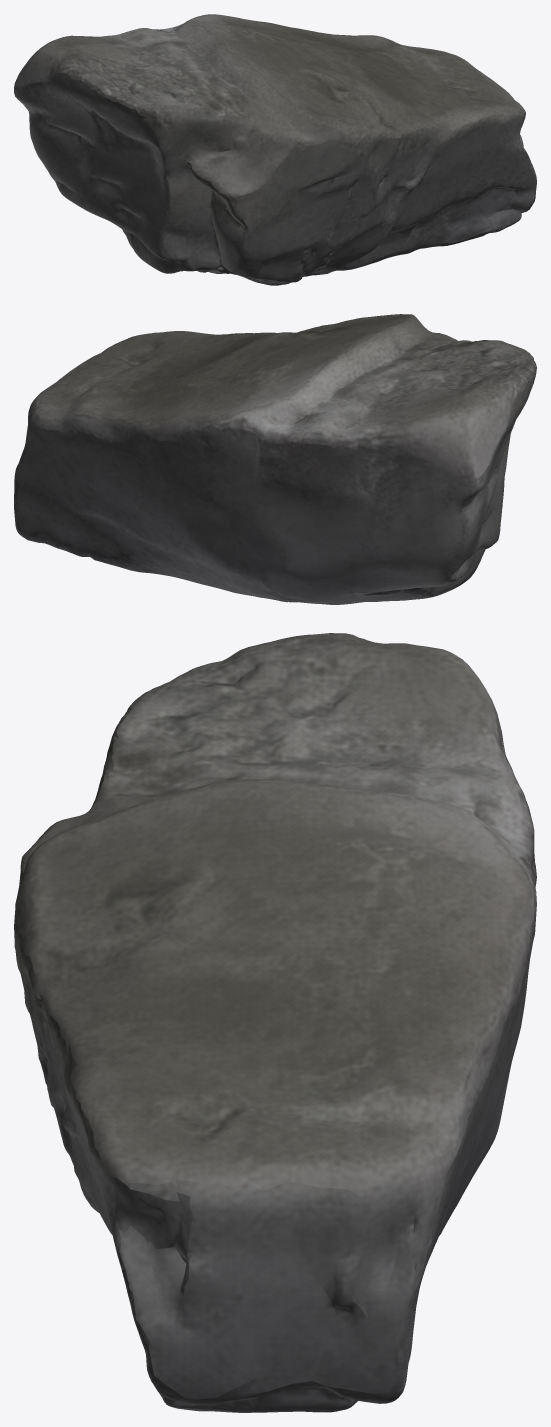
3 views of the same model, one above another, from view 1: azimuth 30°, elevation 25°; view 2: azimuth 150°, elevation 25°; view 3: azimuth 270°, elevation 25° (orthographic). The views are drawn at different scales.
Parts seen in each view (by area): view 1: world; view 2: world; view 3: world.
Boxes of the visible parts, left/top/right/bottom form: world: left=14, top=14, right=536, bottom=285; world: left=14, top=314, right=536, bottom=604; world: left=14, top=633, right=536, bottom=1412.
Bounding box in the file's own units: 3.5 × 1.81 × 2.
Materials: 1 (1 with a texture image).
